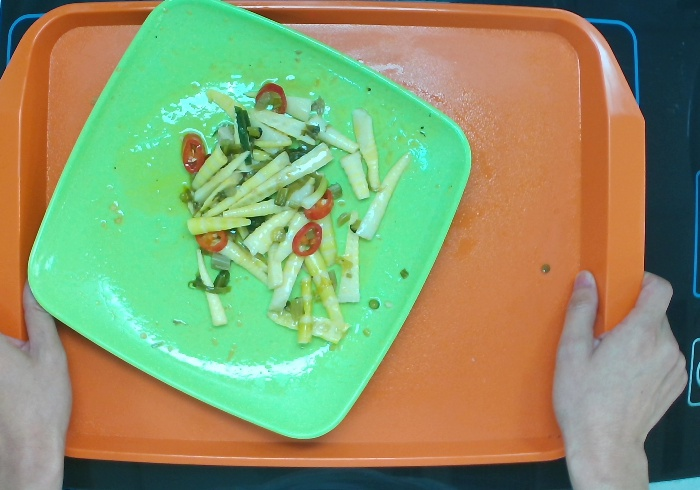ZNLD-Lv_Fang_Pan: (24, 2, 477, 439)
